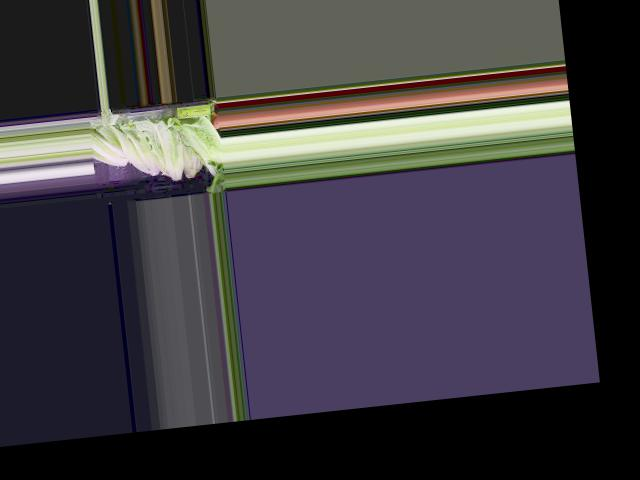lettuce: (88, 125, 132, 171)
